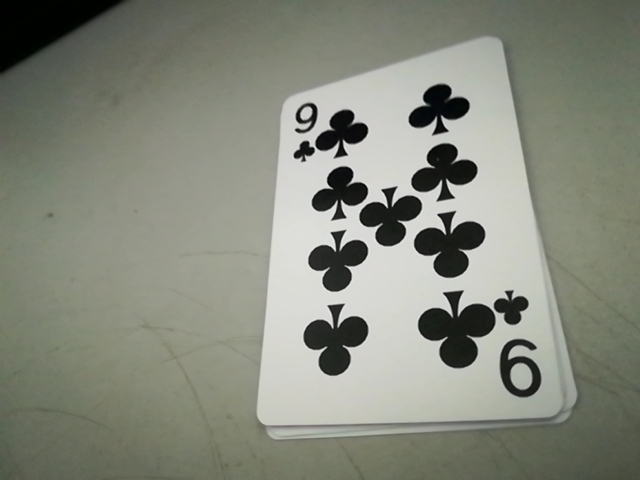mh 9: (496, 309, 548, 404), (287, 94, 332, 154)
